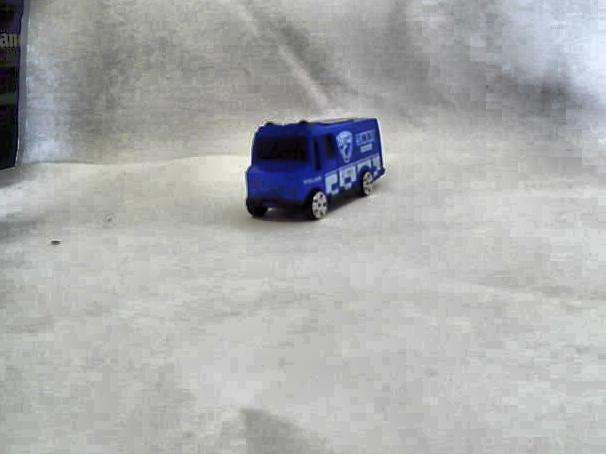police car: (245, 125, 390, 216)
